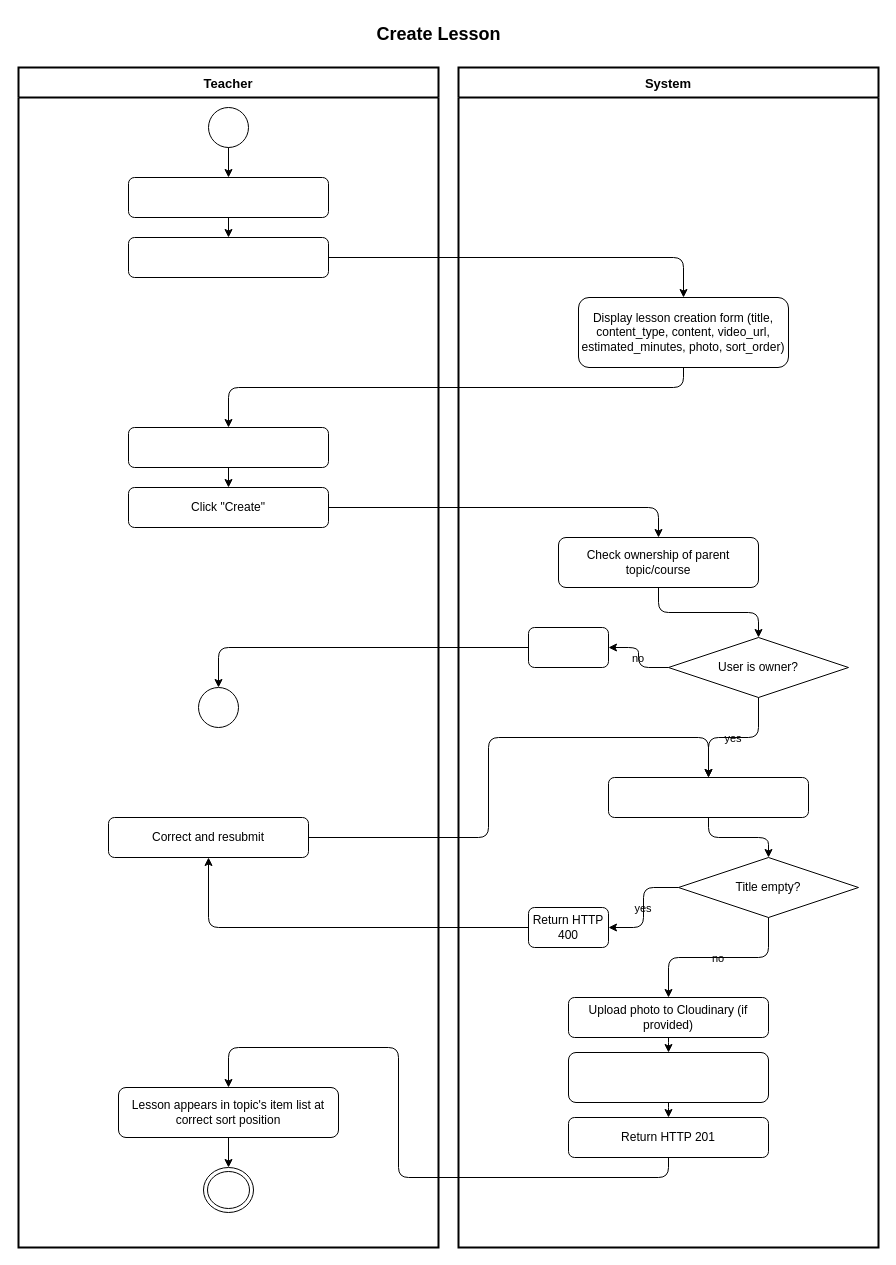
Some shapes in this 896 by 1265 pixel diagram are drawn without their labels. The shapes that lost their labels are listed below. From the top down, each one's box as (x1, y1, x2, y2) in pixels, then its label:
(128, 176, 328, 218): Navigate to topic inside course
(128, 236, 328, 278): Click "Add Lesson"
(128, 426, 328, 468): Fill in lesson details
(528, 626, 608, 668): Return HTTP 403
(608, 776, 808, 818): Validate fields
(568, 1052, 768, 1102): Insert Lesson record (linked to topic, with sort_order)
